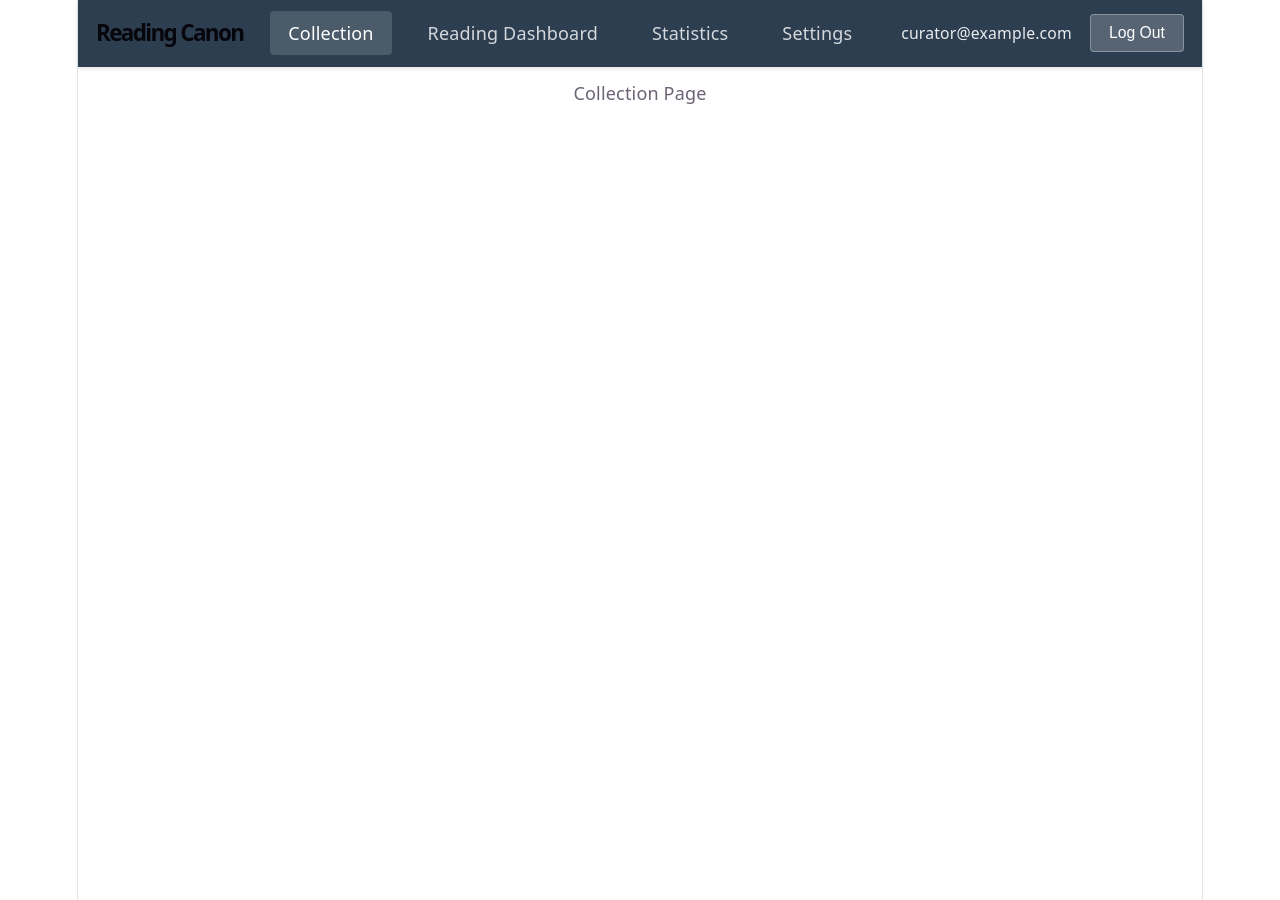
Test case: AppLayout › Navigation Links › should navigate to Statistics when link clicked
The width and height of the screenshot is (1280, 900).
expect the text "Collection Page" is shown: met, box [574,81,707,105]
Step 1. Click the link "Statistics" → click(690, 33), box [652,21,728,45]
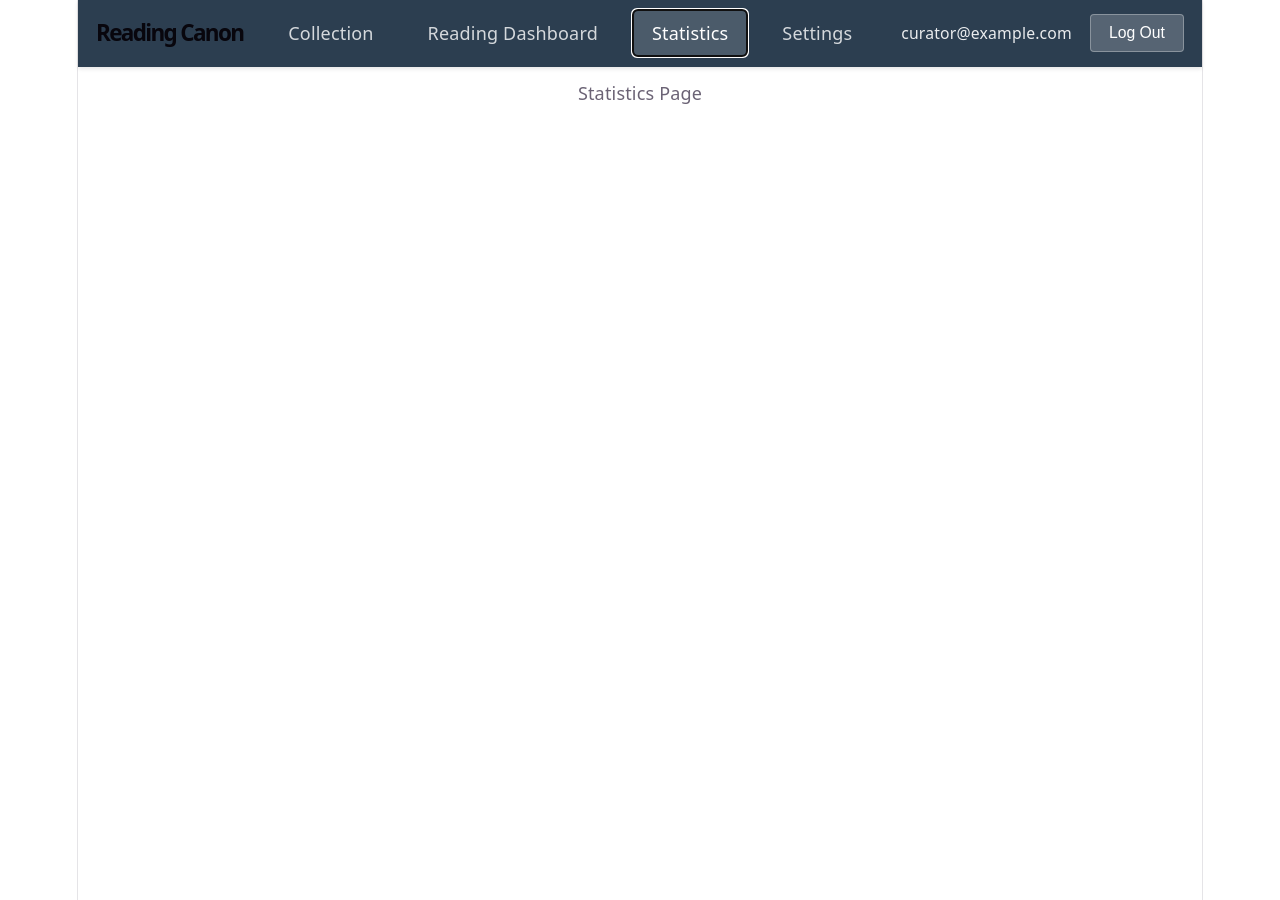
expect the text "Statistics Page" is shown: met, box [578,81,702,105]
